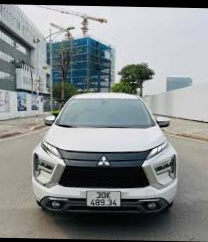Bien-so: (93, 194, 128, 215)
